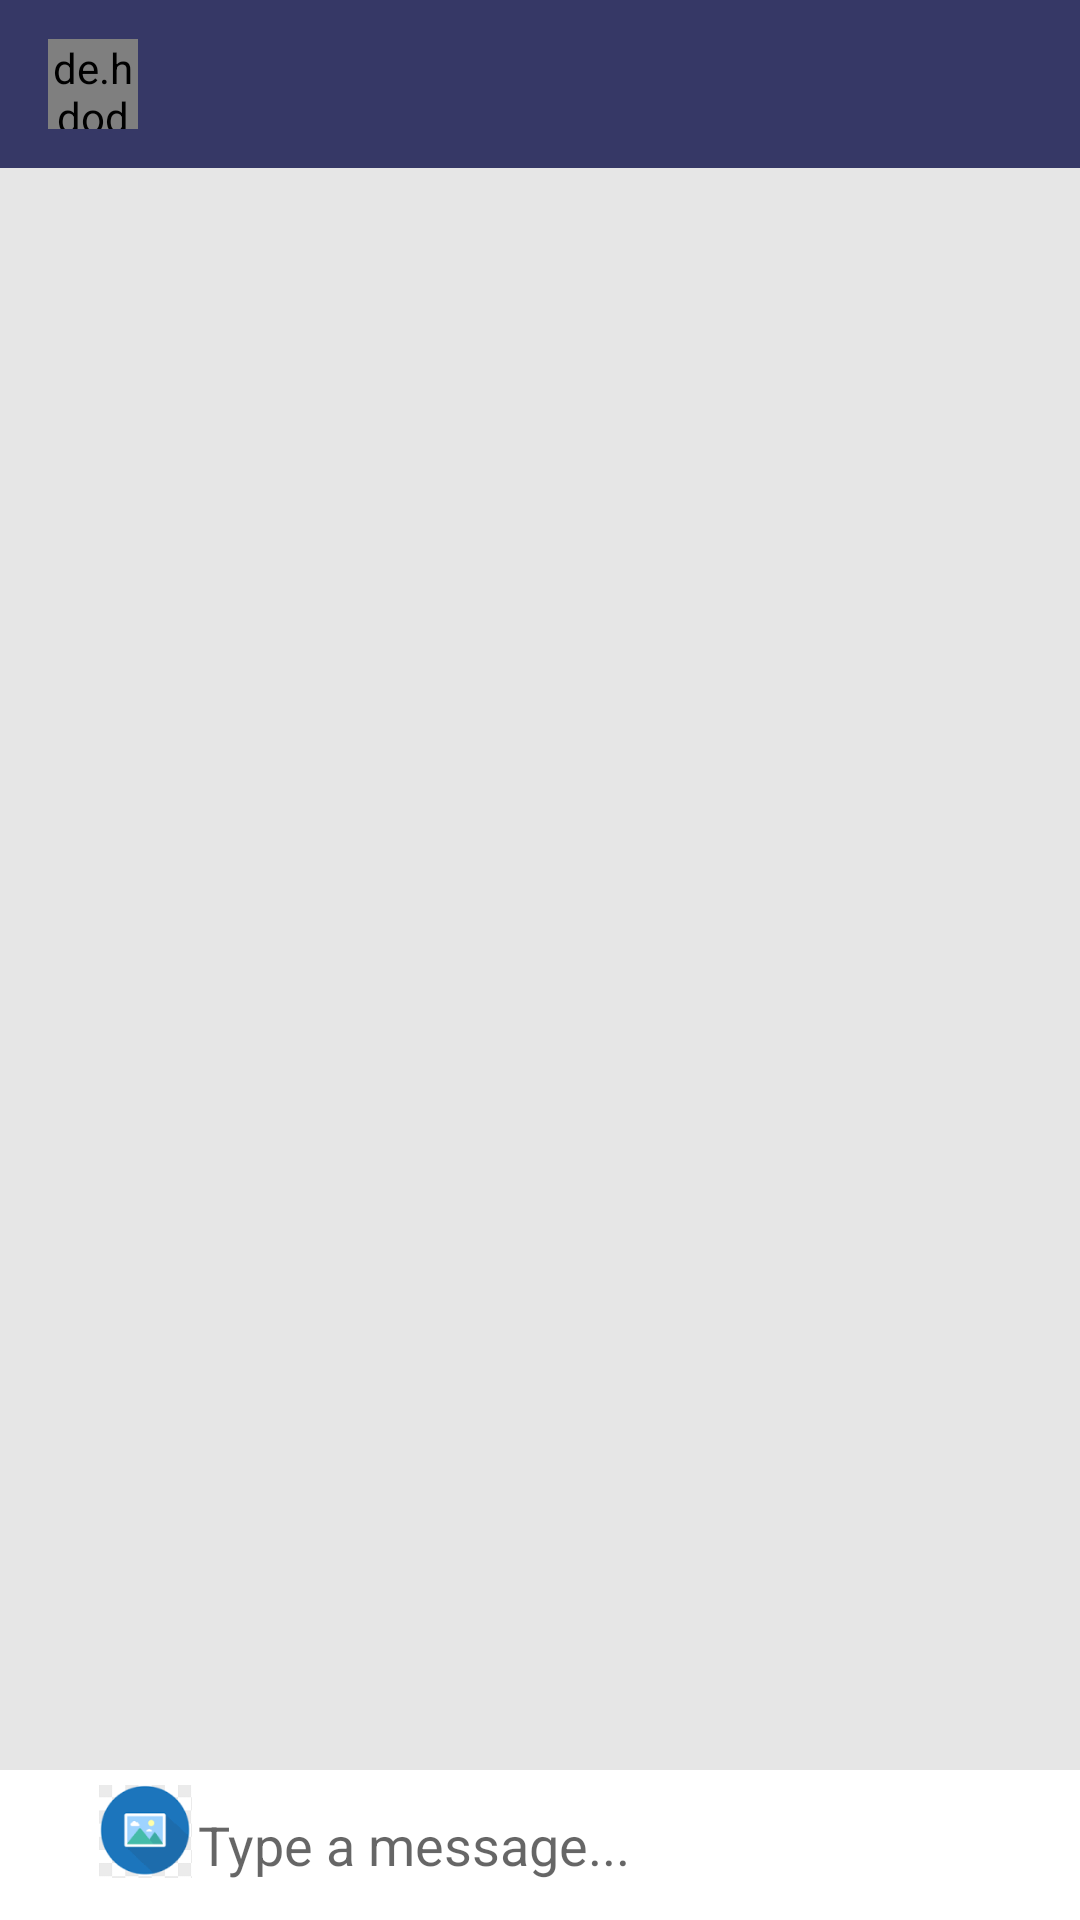

Icons on this 1080px x 1920px Android screen, each with the point to tap as point (x, y):
gallery: point (145, 1830)
